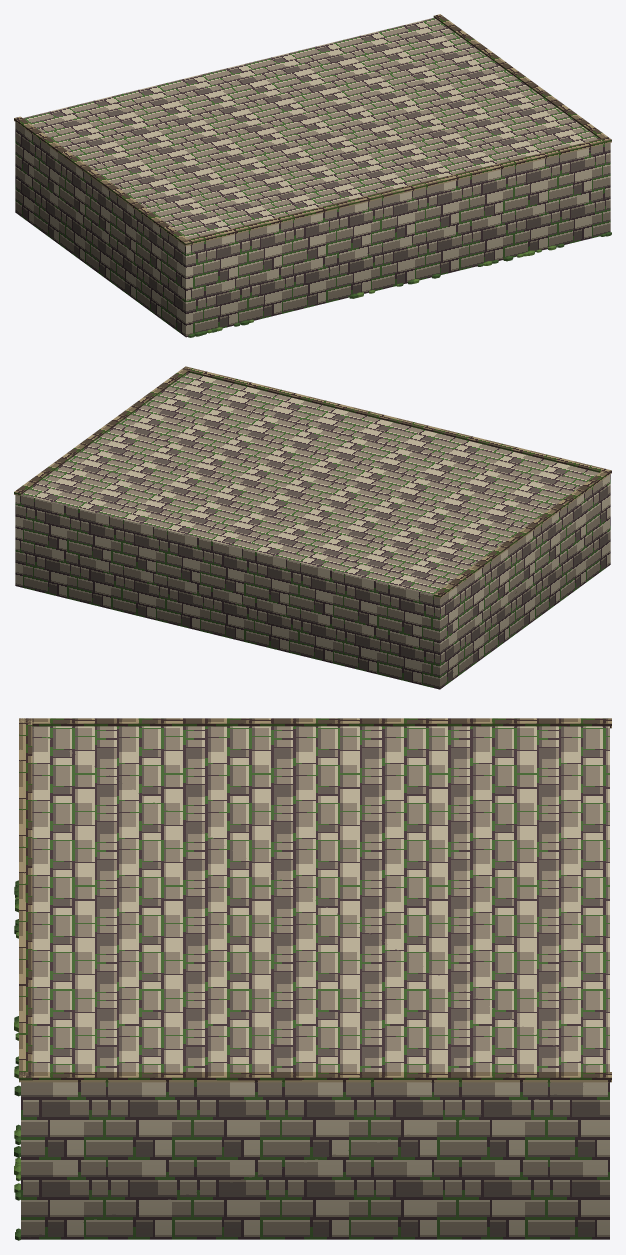
File: scene_wall_e1.glb
The picture shows the model from 3 angles, top to bottom: view 1: azimuth 30°, elevation 25°; view 2: azimuth 150°, elevation 25°; view 3: azimuth 270°, elevation 25°; orthographic projection. The views are drawn at different scales.
Visible parts, largest first — view 1: scene_wall_e1; view 2: scene_wall_e1; view 3: scene_wall_e1.
Part boxes in pixels (x1,y1,x2,y2): scene_wall_e1: (14,14,611,337); scene_wall_e1: (14,366,611,689); scene_wall_e1: (14,718,611,1240).
Size of the model in its own units: 23.1 by 4.97 by 16.24.
Materials: 2 (1 with a texture image).
